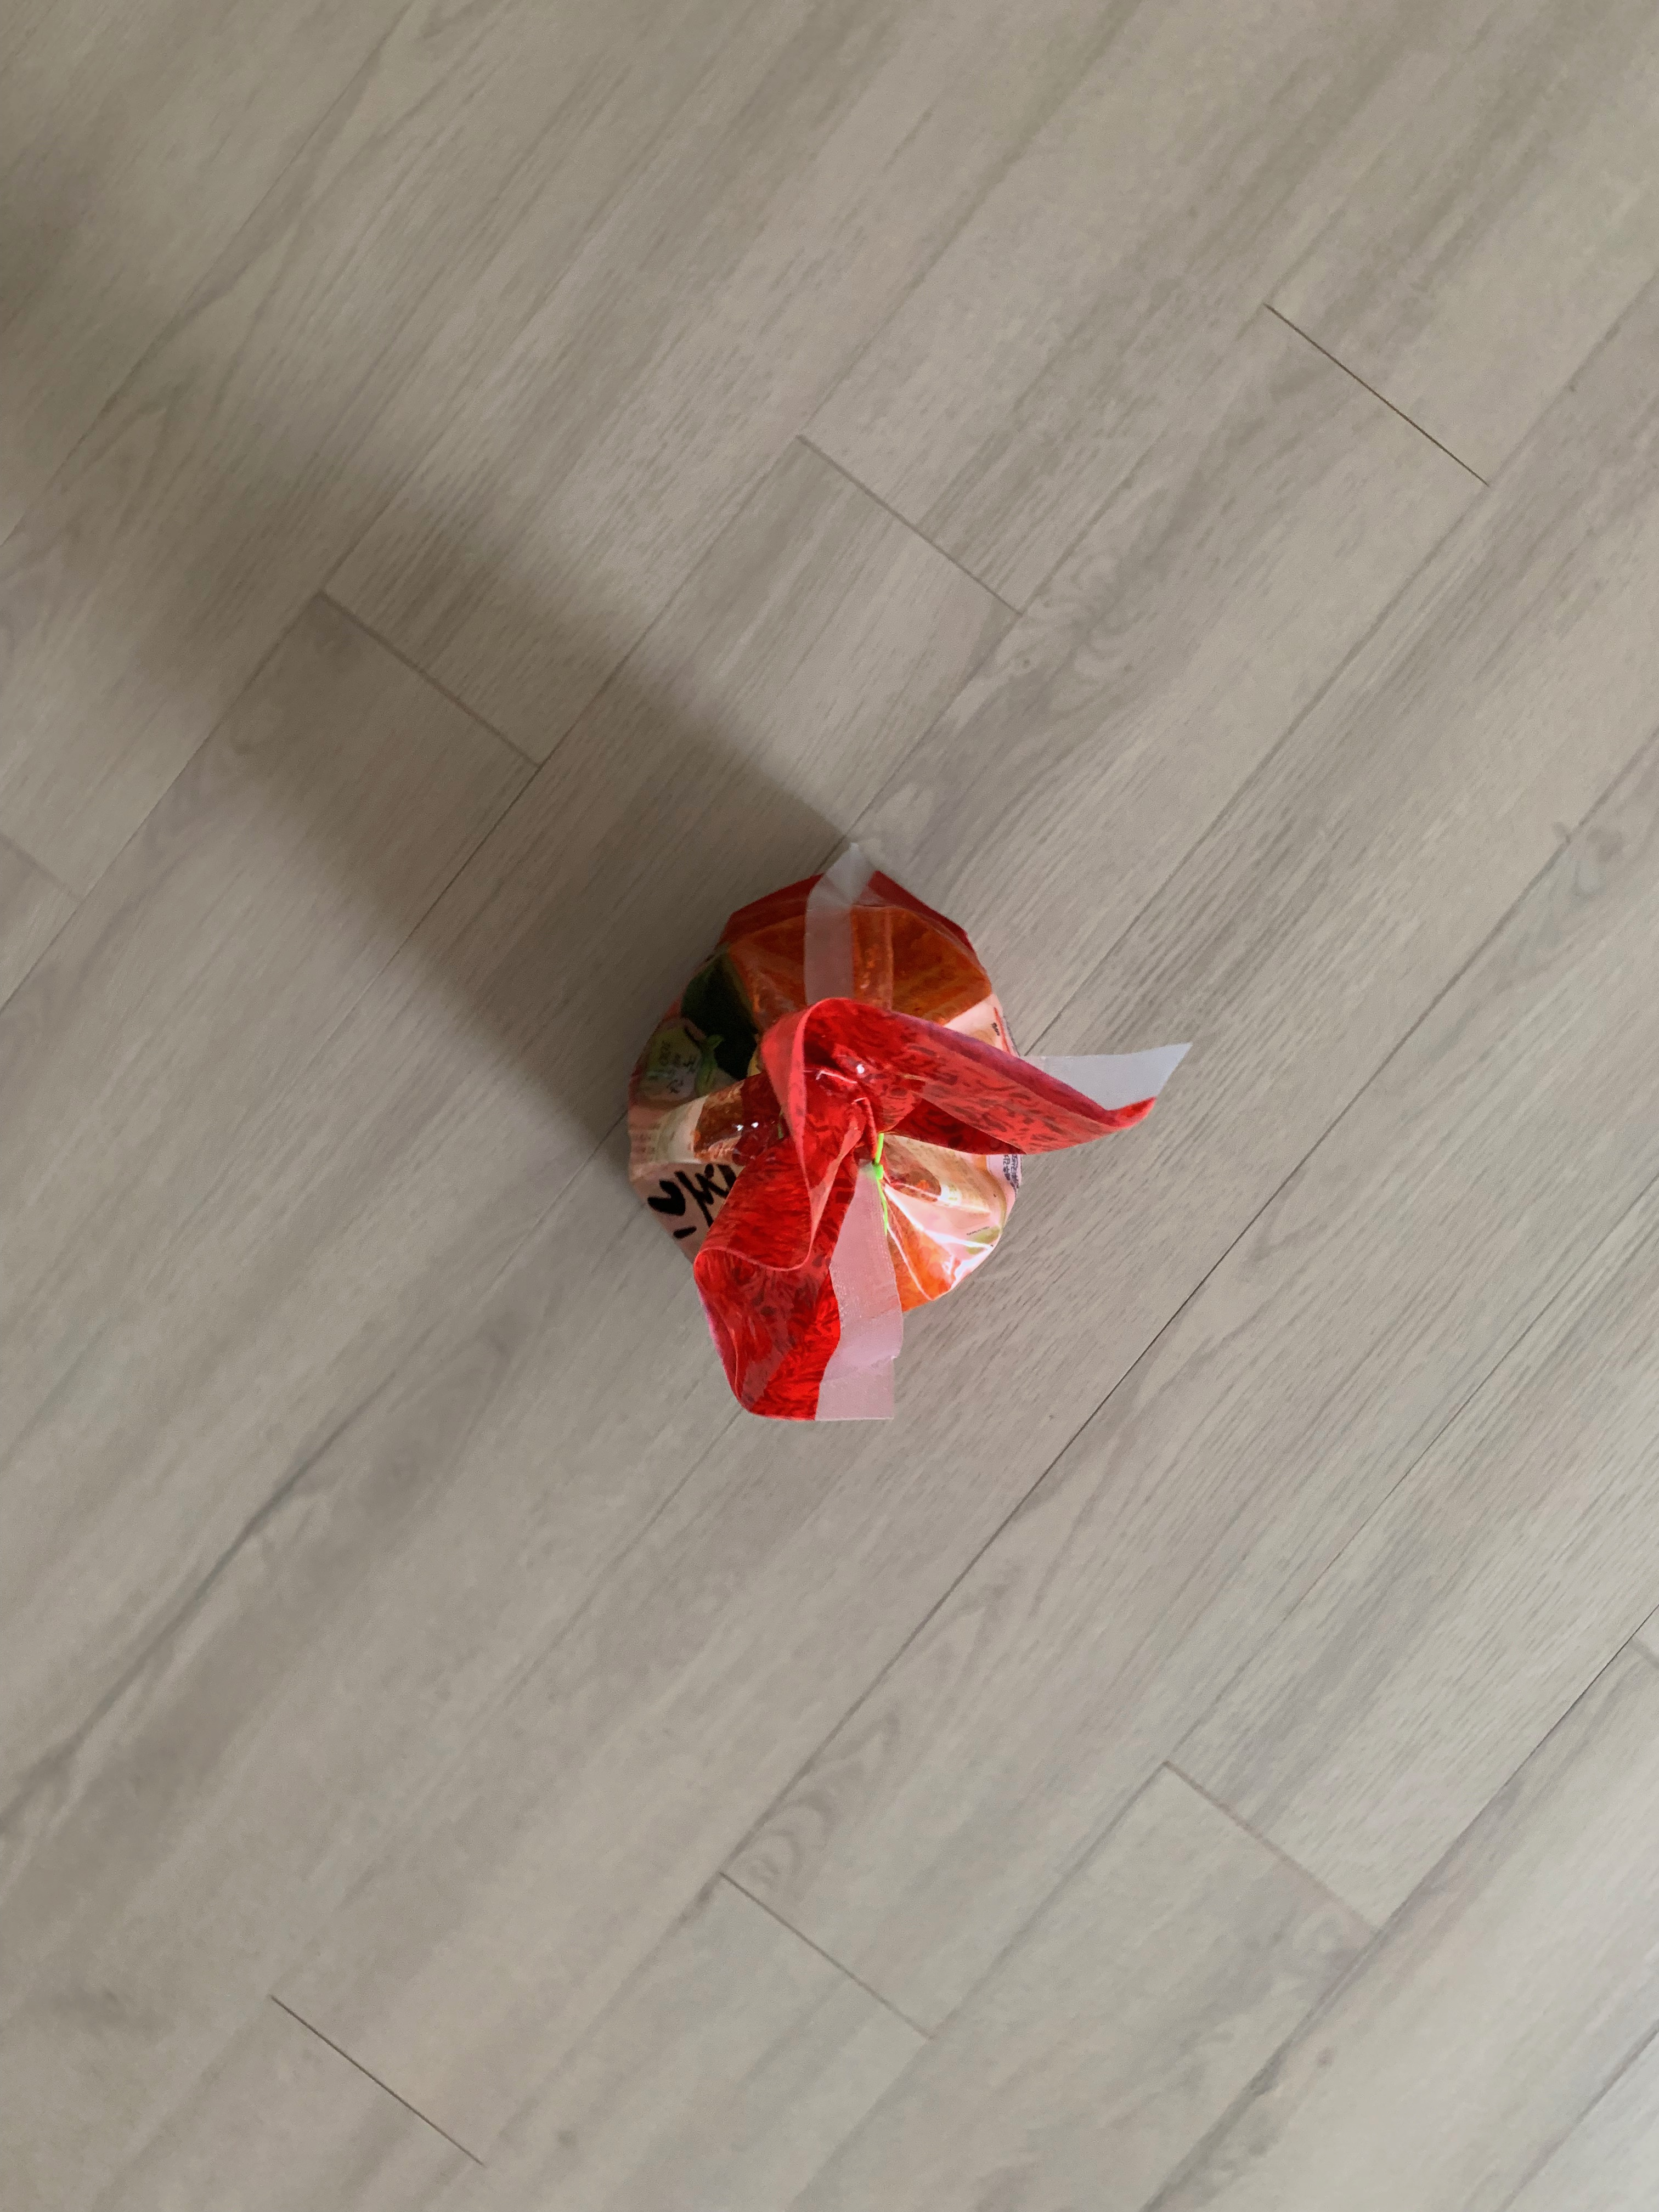kimchi: (624, 873, 1101, 1420)
